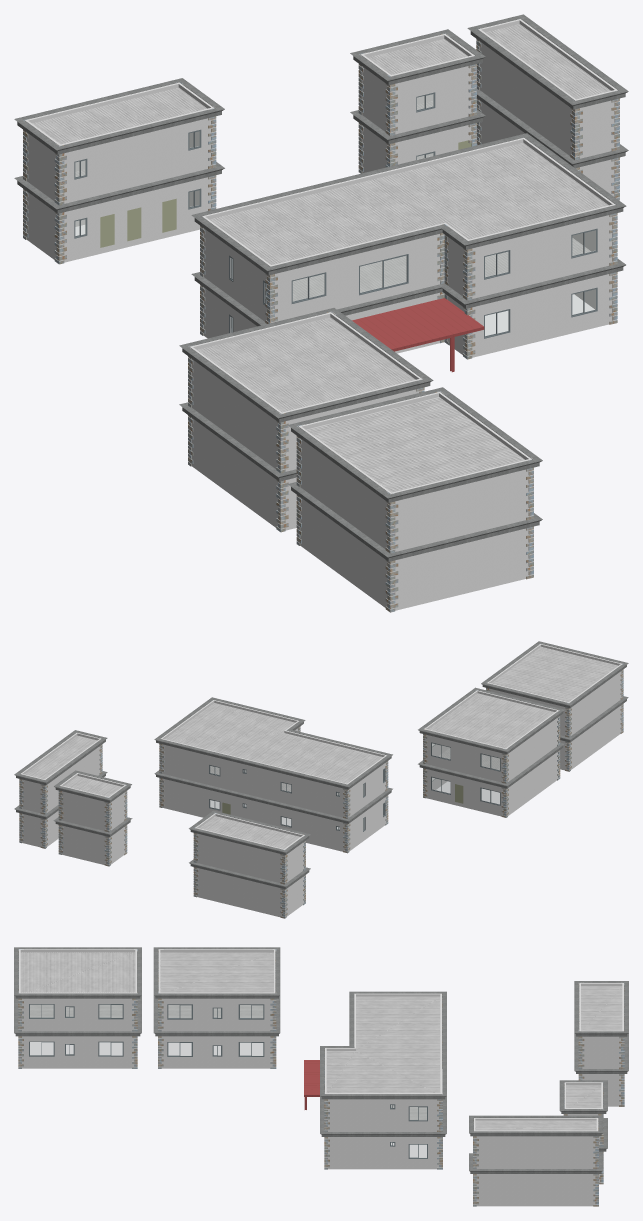
The model's file is Plan(REF)_levels(2)_window(REF)_wall(WAFRA WALL)_quoin(Y)_cornice(Y).fbx.
The picture shows the model from 3 angles, top to bottom: view 1: azimuth 30°, elevation 25°; view 2: azimuth 150°, elevation 25°; view 3: azimuth 270°, elevation 25°; orthographic projection. The views are drawn at different scales.
Visible parts, largest first — view 1: WAFRA Stucco - White Rough 23, WAFRA Roof - Corrugated Sheet Matte 23, Concrete - Structural, WAFRA Stone - Slate Natural 23, Glass - Clear, WAFRA Roof - Standing Seam Red Coat 23, Metal - Finish - Aluminum, Color - White, Color - Beige; view 2: WAFRA Stucco - White Rough 23, WAFRA Roof - Corrugated Sheet Matte 23, Concrete - Structural, WAFRA Stone - Slate Natural 23, Glass - Clear, Metal - Finish - Aluminum, Color - White; view 3: WAFRA Stucco - White Rough 23, WAFRA Roof - Corrugated Sheet Matte 23, Concrete - Structural, WAFRA Stone - Slate Natural 23, Glass - Clear, Metal - Finish - Aluminum, Color - White, WAFRA Roof - Standing Seam Red Coat 23.
Part boxes in pixels (<box>): WAFRA Stucco - White Rough 23: <box>25,19,617,610</box>; WAFRA Roof - Corrugated Sheet Matte 23: <box>32,24,610,492</box>; Concrete - Structural: <box>14,14,628,561</box>; WAFRA Stone - Slate Natural 23: <box>23,18,619,612</box>; Glass - Clear: <box>75,94,595,335</box>; WAFRA Roof - Standing Seam Red Coat 23: <box>352,298,484,372</box>; Metal - Finish - Aluminum: <box>74,92,597,338</box>; Color - White: <box>23,40,619,609</box>; Color - Beige: <box>100,140,471,247</box>; WAFRA Stucco - White Rough 23: <box>20,644,622,916</box>; WAFRA Roof - Corrugated Sheet Matte 23: <box>24,646,617,848</box>; Concrete - Structural: <box>14,641,628,889</box>; WAFRA Stone - Slate Natural 23: <box>19,643,623,918</box>; Glass - Clear: <box>210,743,499,829</box>; Metal - Finish - Aluminum: <box>209,742,500,831</box>; Color - White: <box>20,670,622,916</box>; WAFRA Stucco - White Rough 23: <box>19,949,623,1206</box>; WAFRA Roof - Corrugated Sheet Matte 23: <box>20,952,622,1130</box>; Concrete - Structural: <box>14,947,628,1173</box>; WAFRA Stone - Slate Natural 23: <box>18,949,624,1206</box>; Glass - Clear: <box>30,1005,426,1157</box>; Metal - Finish - Aluminum: <box>29,1004,427,1158</box>; Color - White: <box>18,961,624,1204</box>; WAFRA Roof - Standing Seam Red Coat 23: <box>304,1060,319,1109</box>.
Size of the model in its own units: 4244 by 5930 by 800.
13 materials, 6 textured.
